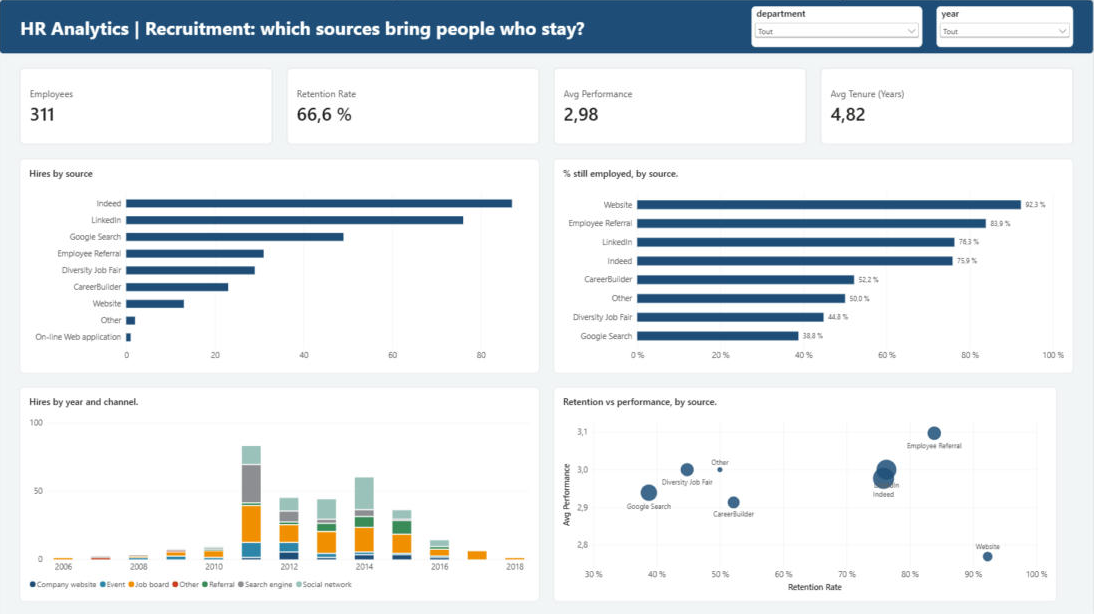

The dashboard page shown, as its layout file describes it:
{"tool":"powerbi","page":{"name":"Recruitment","canvas":[1920,1080],"ordinal":3},"visuals":[{"type":"shape","box":[0,0,1920,96],"z":0},{"type":"cardVisual","fields":{"Data":["_Measures.Employees"]},"box":[36,120,444,135],"z":3000},{"type":"cardVisual","fields":{"Data":["_Measures.Retention Rate"]},"box":[504,120,444,135],"z":4000},{"type":"cardVisual","fields":{"Data":["_Measures.Avg Performance"]},"box":[972,120,444,135],"z":5000},{"type":"cardVisual","fields":{"Data":["_Measures.Avg Tenure (Years)"]},"box":[1440,120,444,135],"z":6000},{"type":"clusteredBarChart","title":"Hires by source","fields":{"Category":["dim_recruitment_source.recruitment_source"],"Y":["_Measures.Employees"]},"box":[36,279,912,377],"z":7000},{"type":"clusteredBarChart","title":"% still employed, by source.","fields":{"Category":["dim_recruitment_source.recruitment_source"],"Y":["_Measures.Retention Rate"]},"box":[972,279,912,377],"z":8000},{"type":"columnChart","title":"Hires by year and channel.","fields":{"Category":["dim_date.year"],"Series":["dim_recruitment_source.recruitment_channel"],"Y":["_Measures.Hires by Hire Date"]},"box":[36,680,912,377],"z":9000},{"type":"scatterChart","title":"Retention vs performance, by source.","fields":{"Category":["dim_recruitment_source.recruitment_source"],"Size":["_Measures.Employees"],"X":["_Measures.Retention Rate"],"Y":["_Measures.Avg Performance"]},"box":[972,680,883,377],"z":10000},{"type":"slicer","fields":{"Values":["dim_date.year"]},"box":[1644,12,240,72],"z":10001},{"type":"slicer","fields":{"Values":["dim_department.department_name"]},"box":[1320,12,300,72],"z":10002}]}

Visuals, with their boxes in screenshot pixels (x1, y1, x2, y2), scaled from the page's 1920x1080 canvas onto the 1094x614 screenshot:
shape: 0/0/1093/55
cardVisual - _Measures.Employees: 21/68/274/145
cardVisual - _Measures.Retention Rate: 287/68/540/145
cardVisual - _Measures.Avg Performance: 554/68/807/145
cardVisual - _Measures.Avg Tenure (Years): 820/68/1073/145
"Hires by source" clusteredBarChart: 21/159/540/373
"% still employed, by source." clusteredBarChart: 554/159/1073/373
"Hires by year and channel." columnChart: 21/387/540/601
"Retention vs performance, by source." scatterChart: 554/387/1057/601
slicer - dim_date.year: 937/7/1073/48
slicer - dim_department.department_name: 752/7/923/48
